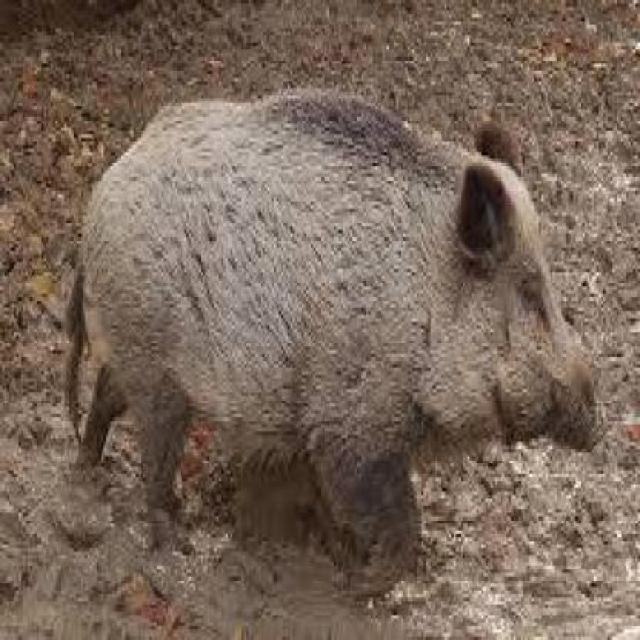wildboar: (56, 73, 612, 605)
